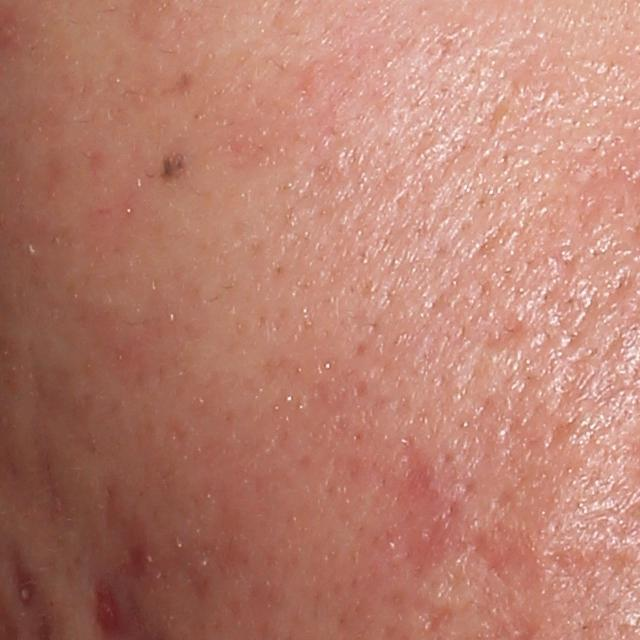atrophic_scar: (486, 312, 530, 353), (13, 558, 40, 608)
nevus: (149, 152, 197, 186)
